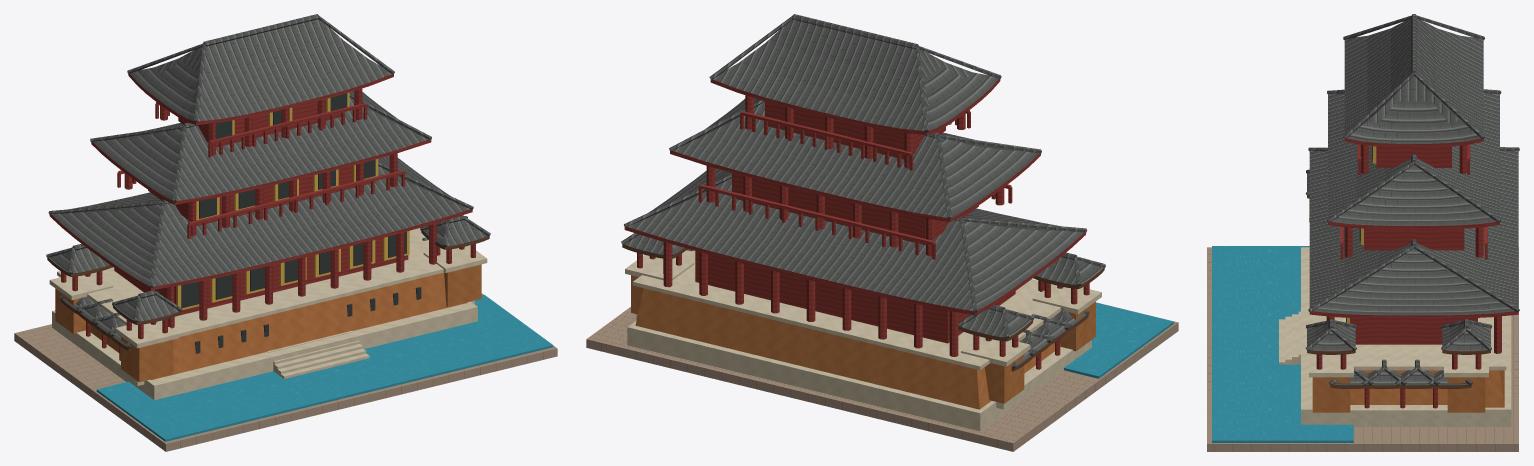
File: tang-paradise.glb
3 views of the same model, side by side, from view 1: azimuth 30°, elevation 25°; view 2: azimuth 150°, elevation 25°; view 3: azimuth 270°, elevation 25° (orthographic). The views are drawn at different scales.
Parts seen in each view (by area): view 1: 大唐芙蓉园; view 2: 大唐芙蓉园; view 3: 大唐芙蓉园.
Boxes of the visible parts, x1,y1,x2,y2 form: 大唐芙蓉园: (14,14,557,451); 大唐芙蓉园: (586,14,1178,451); 大唐芙蓉园: (1207,14,1519,451).
Bounding box in the file's own units: 9.4 × 6.93 × 6.32.
Materials: 10 (10 with a texture image).
